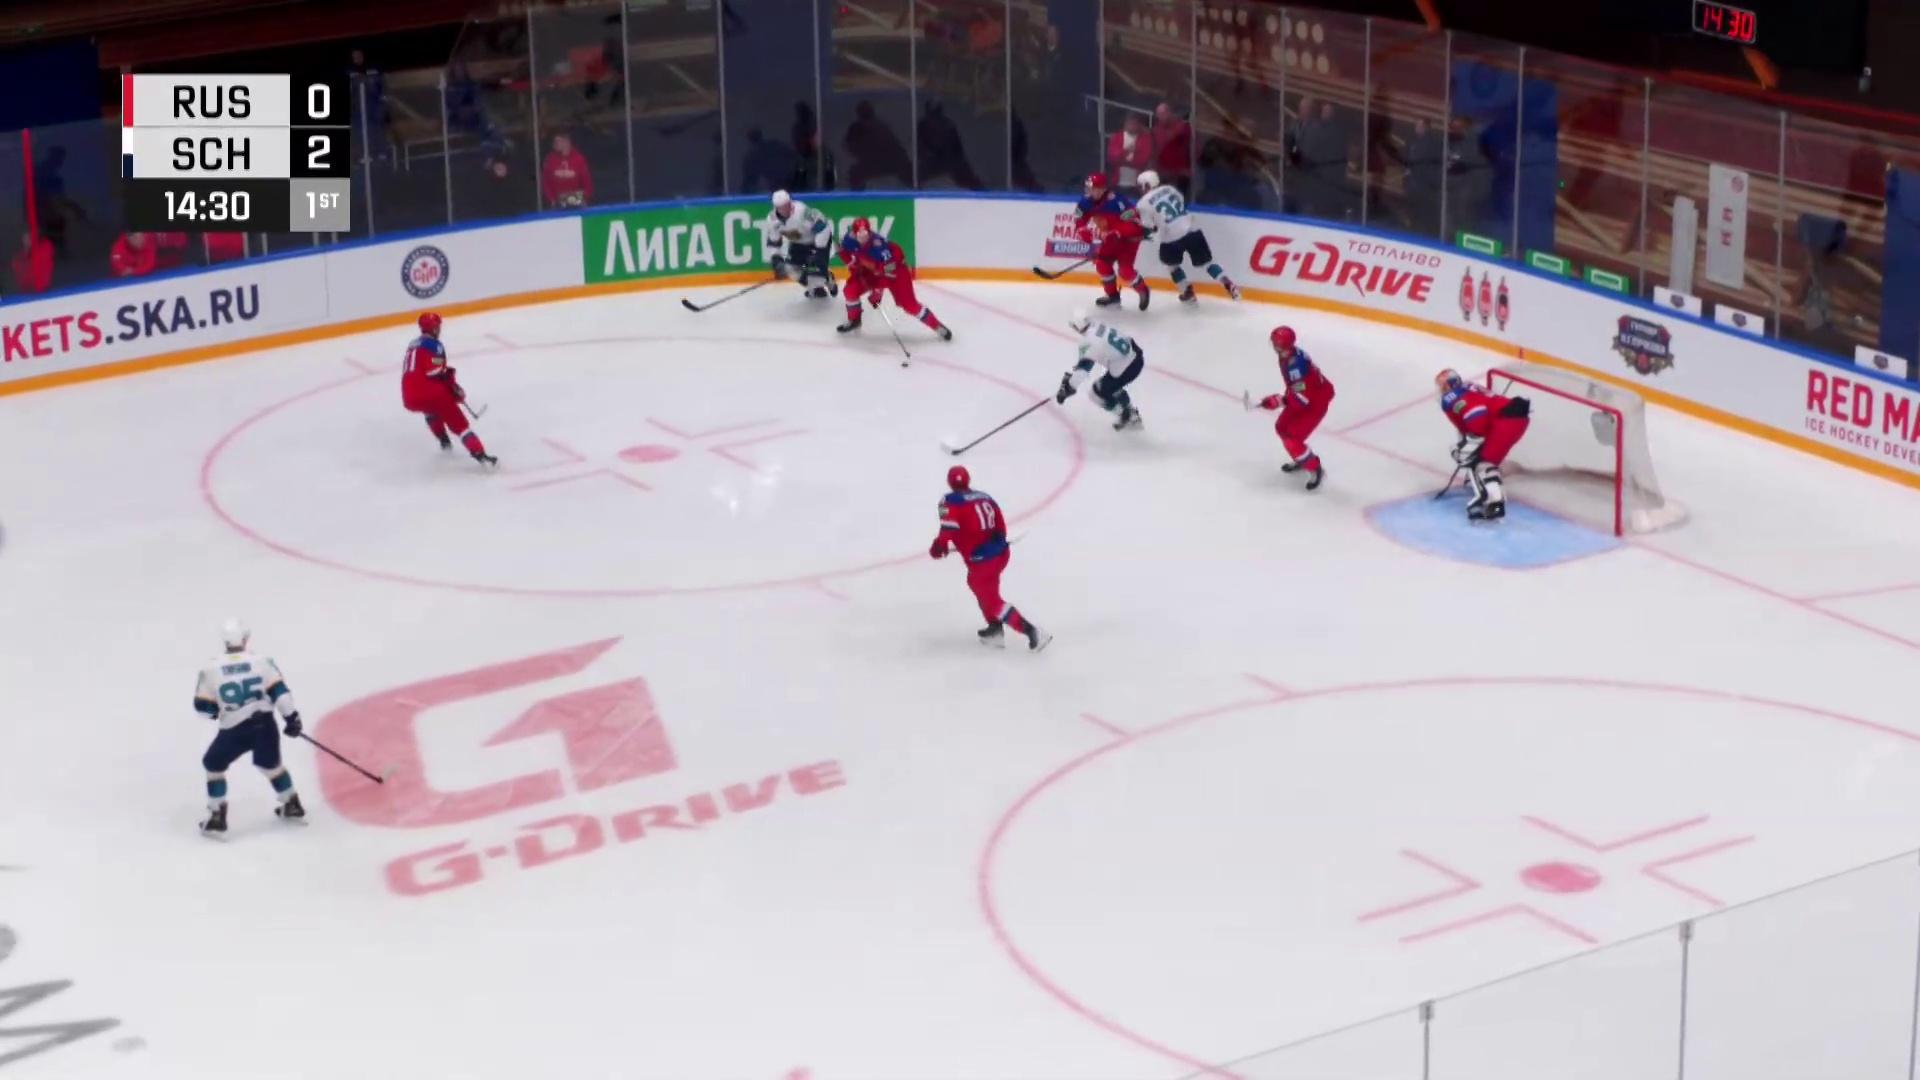ball: (901, 363, 910, 368)
